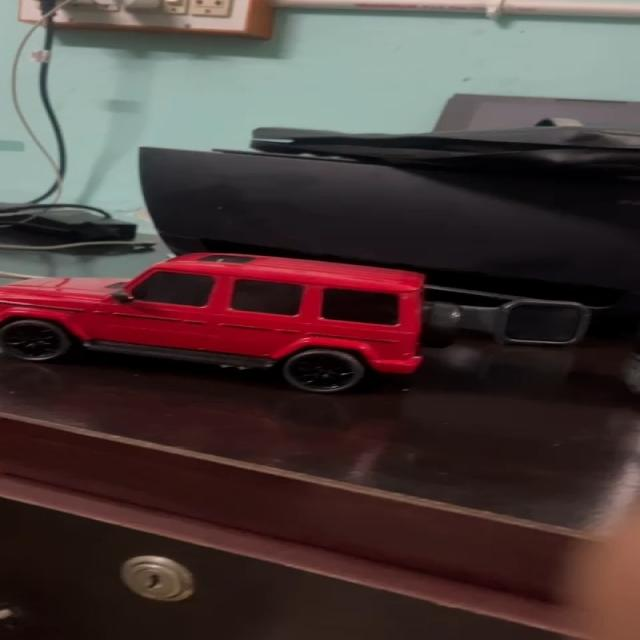light_vehicle: (8, 248, 430, 396)
